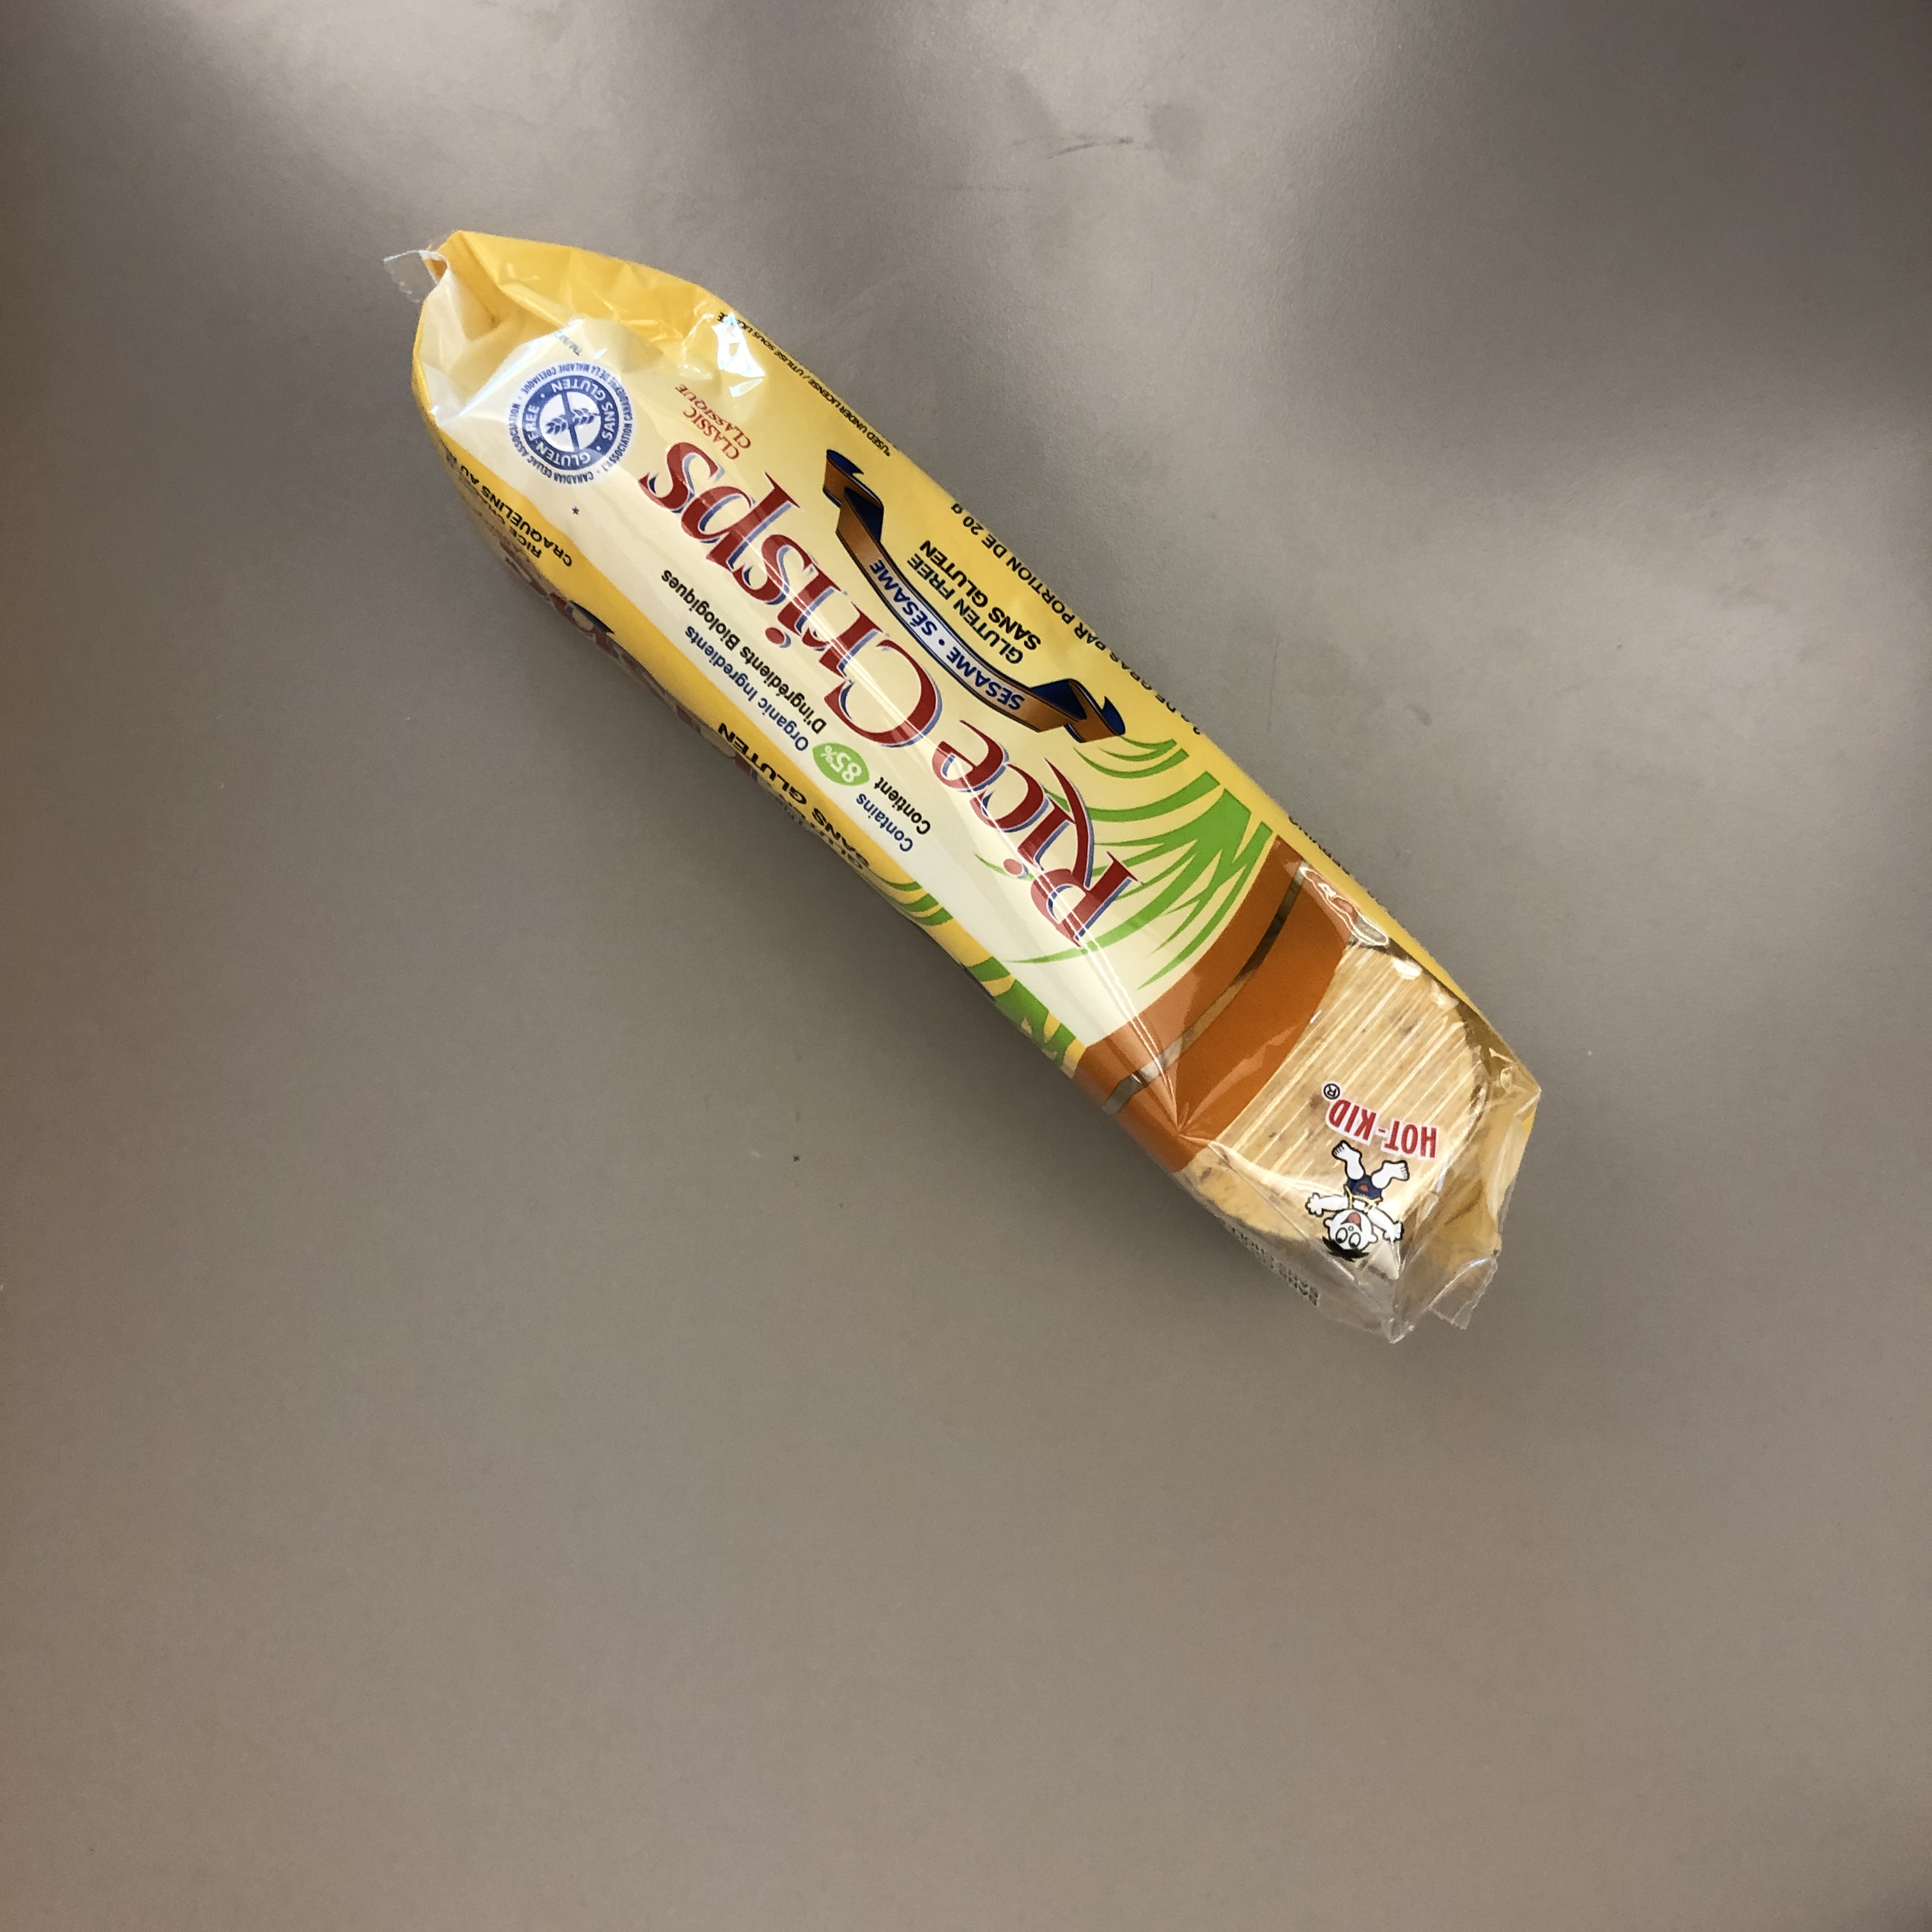hot_kid_rice_crisps_sesame: (379, 364, 1220, 1477)
